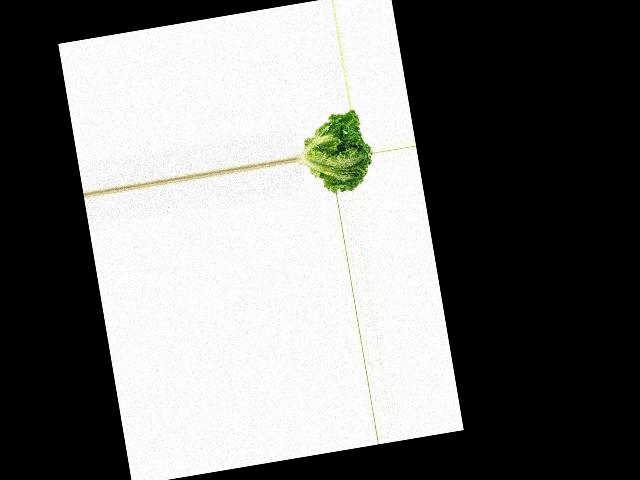lettuce: (290, 108, 377, 199)
